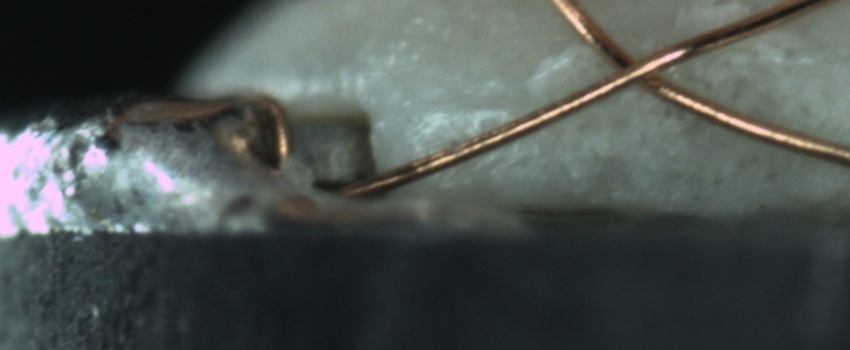CL: (592, 34, 692, 103)
DL: (407, 81, 539, 145)
TE: (243, 82, 302, 174)
